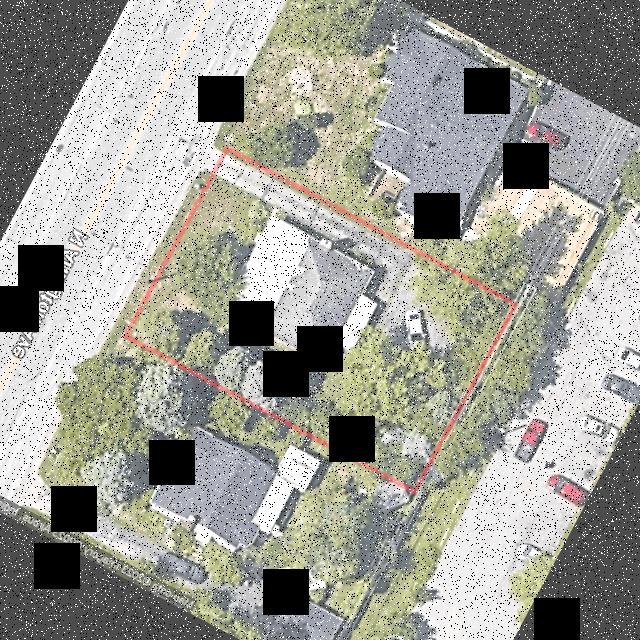Driveway: (217, 155, 454, 362)
Extra Driveway: (198, 143, 221, 171)
Extra Lawn: (112, 170, 211, 335), (213, 140, 225, 152)
House: (231, 216, 376, 363)
